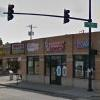Traffic light: (4, 2, 20, 28)
